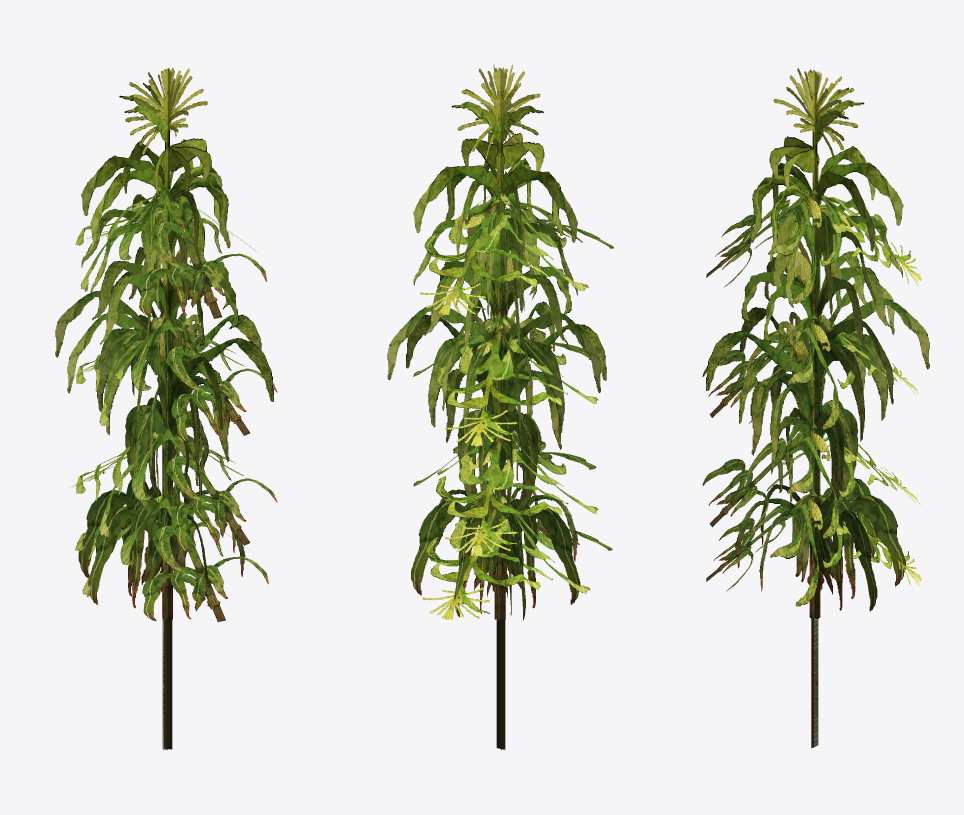
Rendered from corn.obj.
3 views of the same model, side by side, from view 1: azimuth 30°, elevation 25°; view 2: azimuth 150°, elevation 25°; view 3: azimuth 270°, elevation 25° (orthographic).
Visible parts, largest first — view 1: Plane.003; view 2: Plane.003; view 3: Plane.003.
Part boxes in pixels (box(x1,y1,x2,y2)): Plane.003: box(55, 68, 277, 750); Plane.003: box(387, 64, 613, 750); Plane.003: box(702, 68, 929, 748).
Size of the model in its own units: 1.13 by 3.14 by 1.13.
